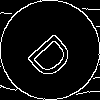D: (25, 25, 83, 83)
